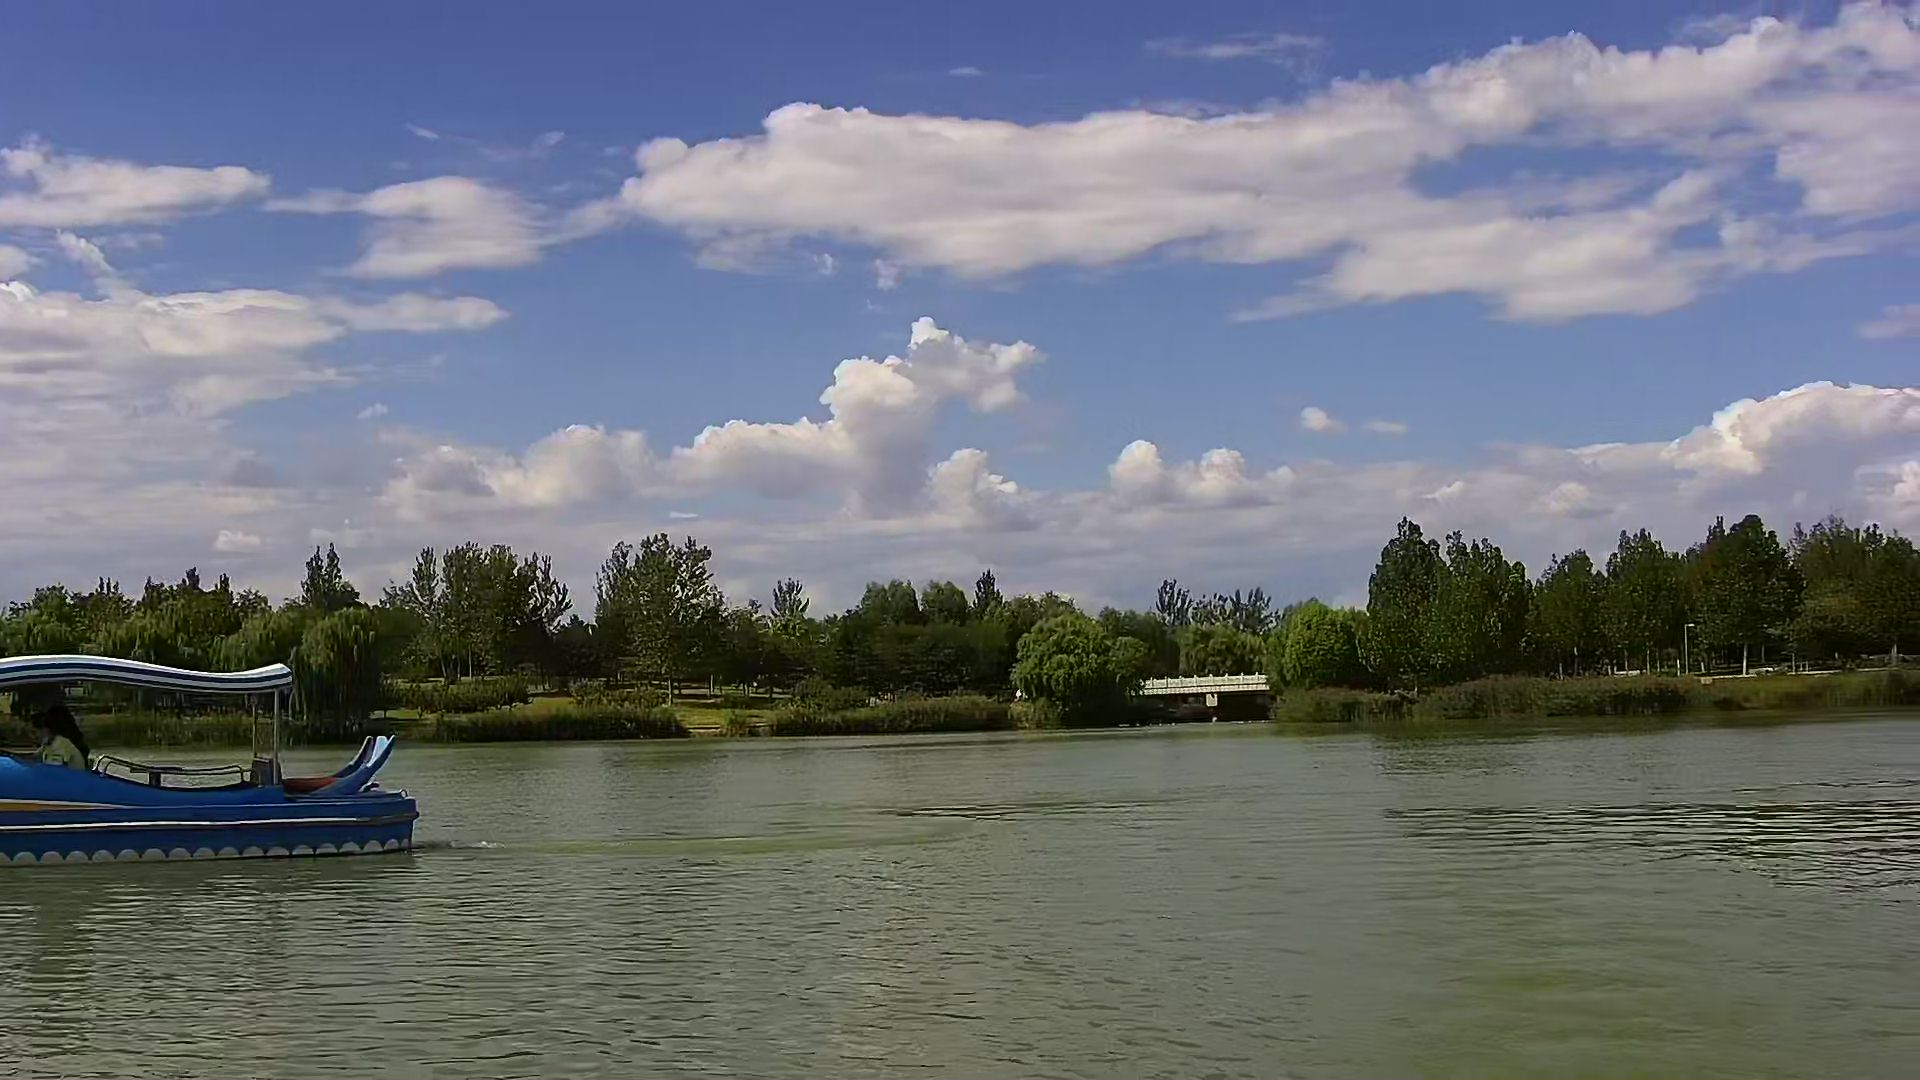boat: (1, 650, 417, 869)
bridge: (1145, 673, 1265, 719)
